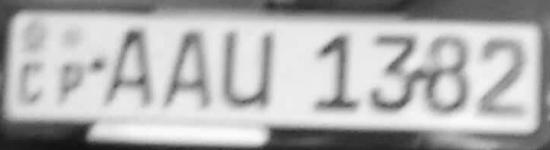1: (311, 28, 364, 116)
2: (478, 30, 531, 124)
3: (366, 27, 422, 120)
8: (420, 27, 476, 122)
A: (159, 24, 216, 115), (98, 25, 158, 108)
C: (14, 59, 47, 107)
P: (56, 60, 86, 109)
U: (218, 27, 276, 114)
